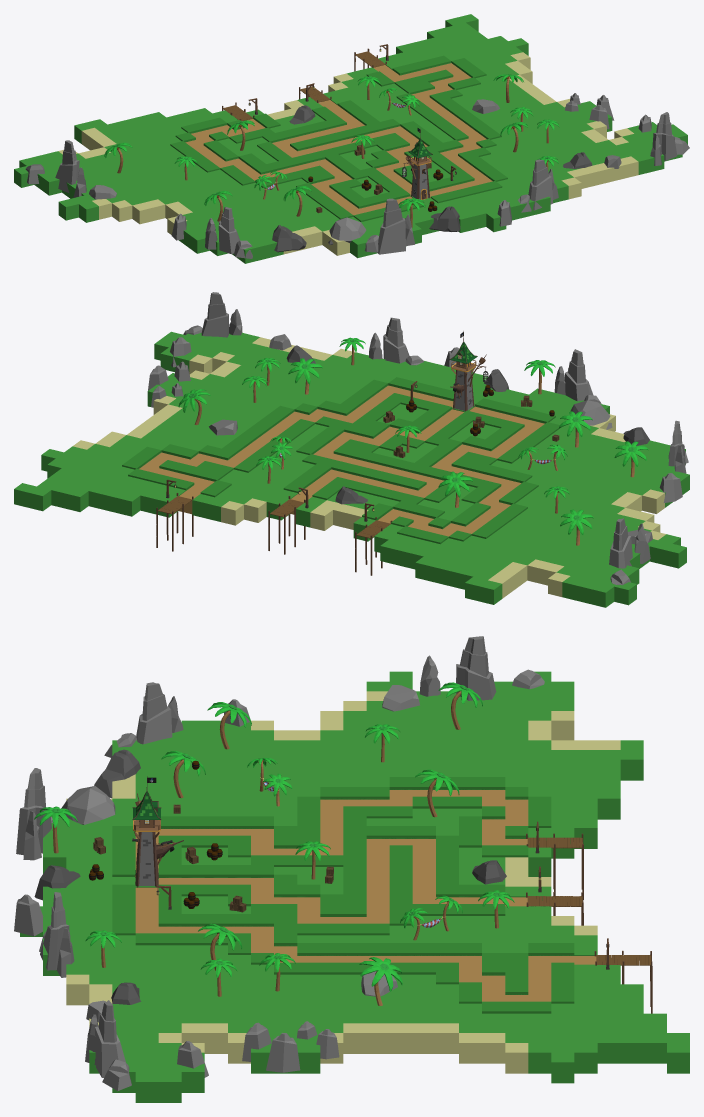
Rendered from small island 4mer.fbx.
3 renders of one model, top to bottom at view 1: azimuth 30°, elevation 25°; view 2: azimuth 150°, elevation 25°; view 3: azimuth 270°, elevation 25°, orthographic. The views are drawn at different scales.
Parts seen in each view (by area): view 1: Rock, Palm Tree.011, Tower, Lampost, Dock.001, Sand.024; view 2: Rock, Palm Tree.011, Tower, Lampost, Dock.001, Dock, Dock.002, Grass.1395, Grass.1370, Grass.1461, Grass.1526, Grass.116; view 3: Rock, Palm Tree.011, Tower, Lampost, Dock.002, Dock.001, Dock, Grass.1213, Sand.014, Grass.792, Grass.801, Grass.1149 (+18 smaller).
Boxes of the visible parts, bbox=[...] form: Rock: bbox=[25, 93, 689, 258]; Palm Tree.011: bbox=[104, 74, 559, 227]; Tower: bbox=[402, 128, 432, 199]; Lampost: bbox=[308, 145, 456, 213]; Dock.001: bbox=[354, 44, 388, 71]; Sand.024: bbox=[132, 202, 152, 224]; Rock: bbox=[148, 292, 688, 585]; Palm Tree.011: bbox=[178, 337, 648, 545]; Tower: bbox=[449, 331, 488, 411]; Lampost: bbox=[383, 381, 559, 457]; Dock.001: bbox=[156, 479, 193, 551]; Dock: bbox=[268, 487, 308, 554]; Dock.002: bbox=[355, 503, 392, 575]; Grass.1395: bbox=[117, 492, 140, 516]; Grass.1370: bbox=[479, 580, 502, 604]; Grass.1461: bbox=[65, 487, 88, 511]; Grass.1526: bbox=[28, 486, 51, 511]; Grass.116: bbox=[591, 583, 614, 607]; Rock: bbox=[14, 636, 544, 1090]; Palm Tree.011: bbox=[34, 682, 514, 1005]; Tower: bbox=[132, 776, 183, 887]; Lampost: bbox=[89, 760, 333, 912]; Dock.002: bbox=[526, 821, 583, 899]; Dock.001: bbox=[594, 938, 652, 1013]; Dock: bbox=[526, 866, 583, 925]; Grass.1213: bbox=[551, 1052, 574, 1083]; Sand.014: bbox=[66, 974, 89, 1005]; Grass.792: bbox=[158, 1072, 181, 1102]; Grass.801: bbox=[135, 1072, 158, 1102]; Grass.1149: bbox=[528, 1043, 551, 1073].
Size of what is drawn, in the model's own units: 4200 by 750 by 2926.
